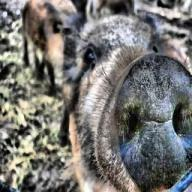boar: (66, 12, 192, 192), (21, 0, 78, 95)
